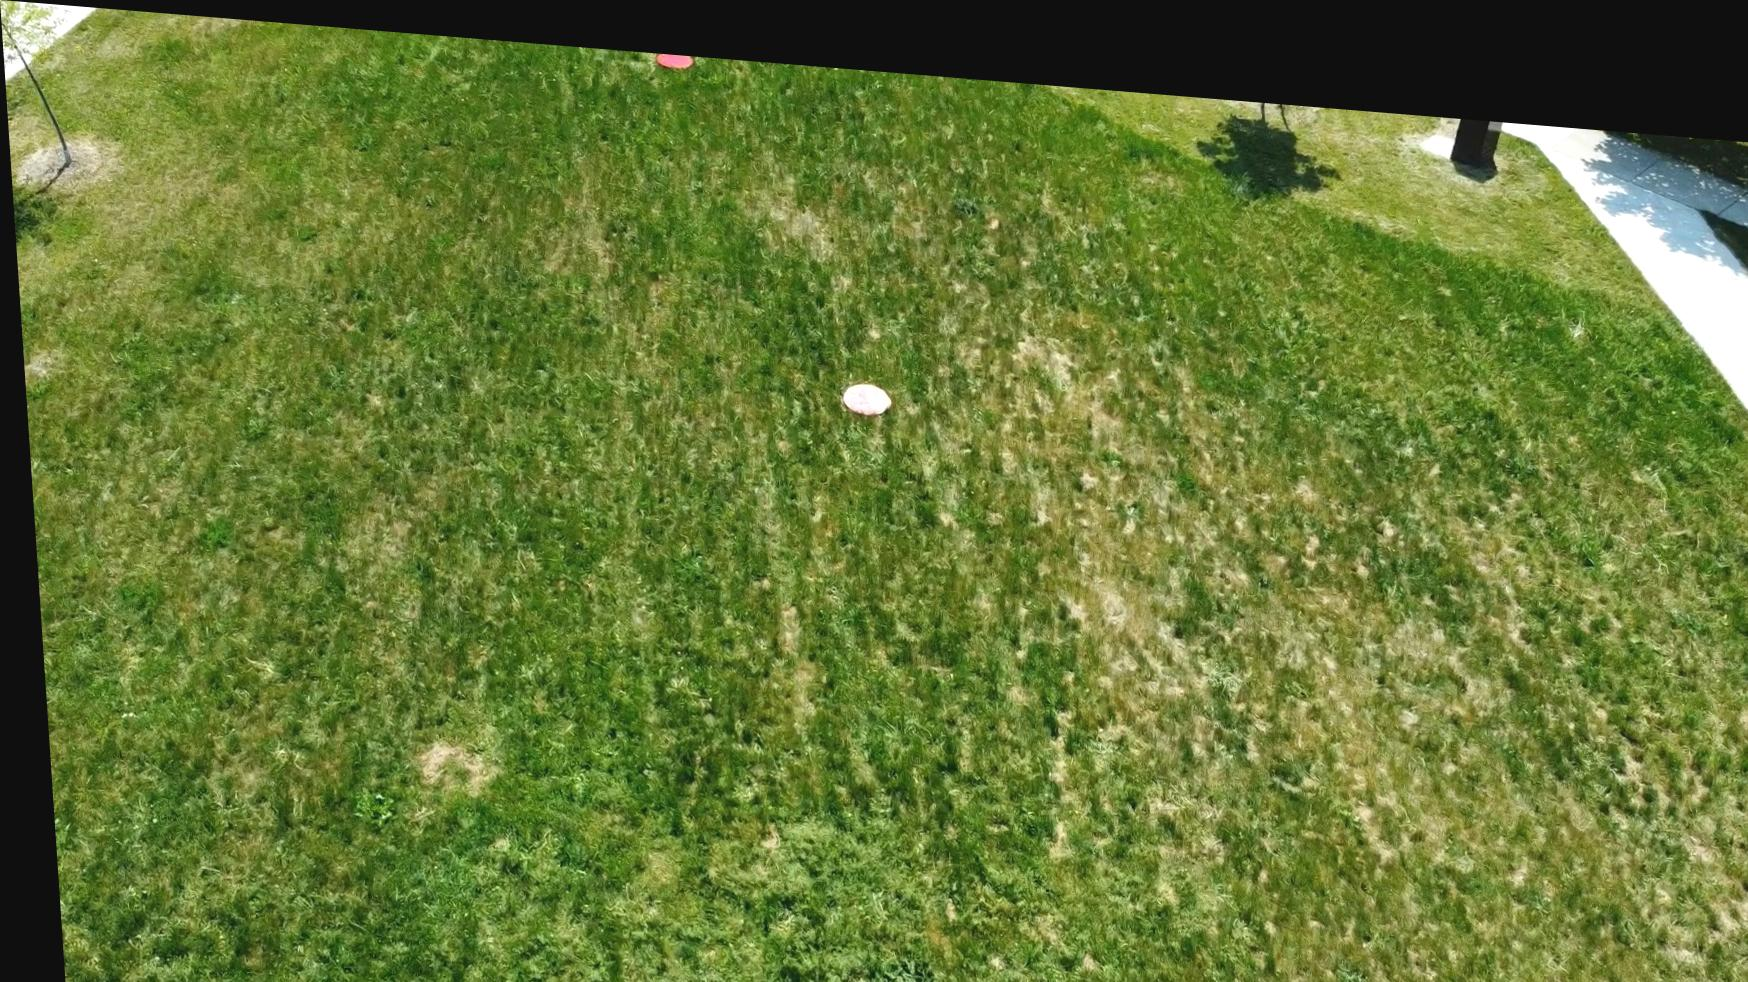Red: (837, 366, 888, 403), (655, 42, 695, 60)
